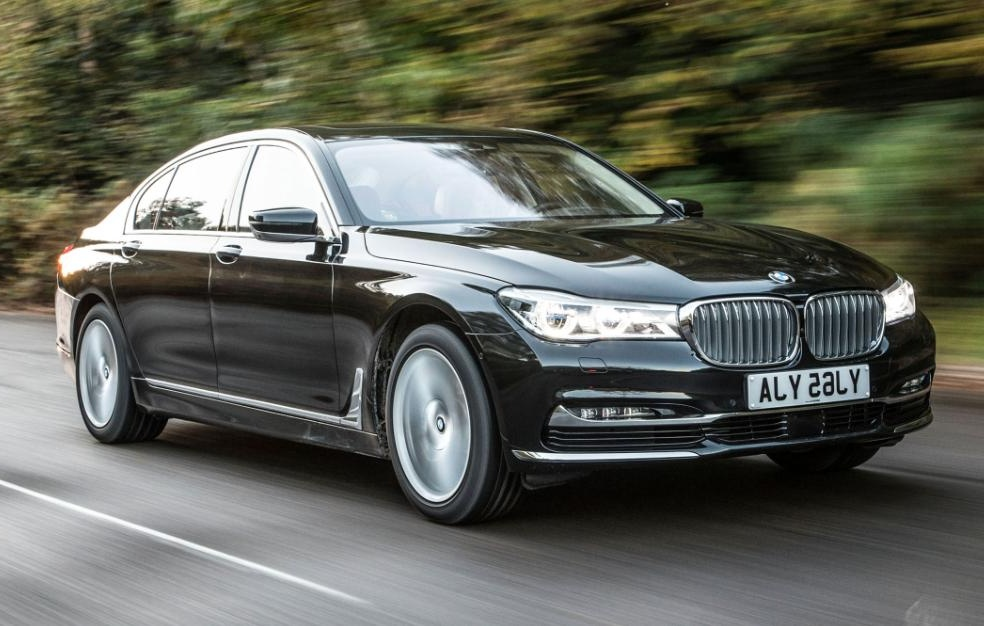car: (42, 98, 935, 535)
